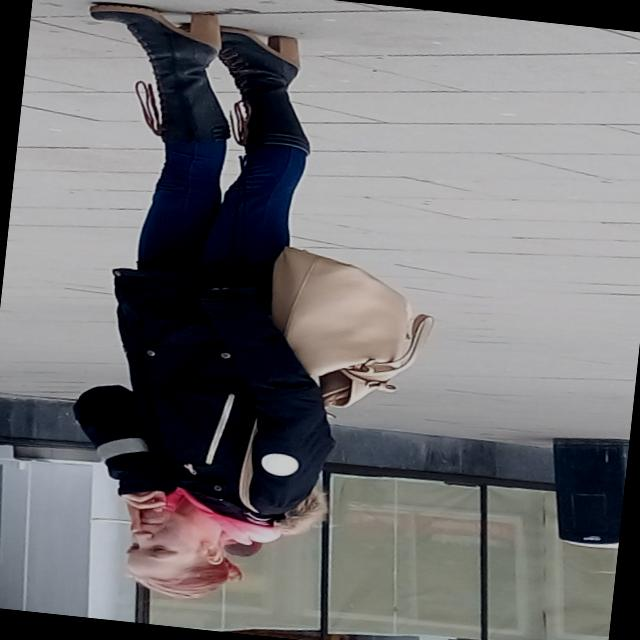cigarette: (73, 502, 149, 534)
